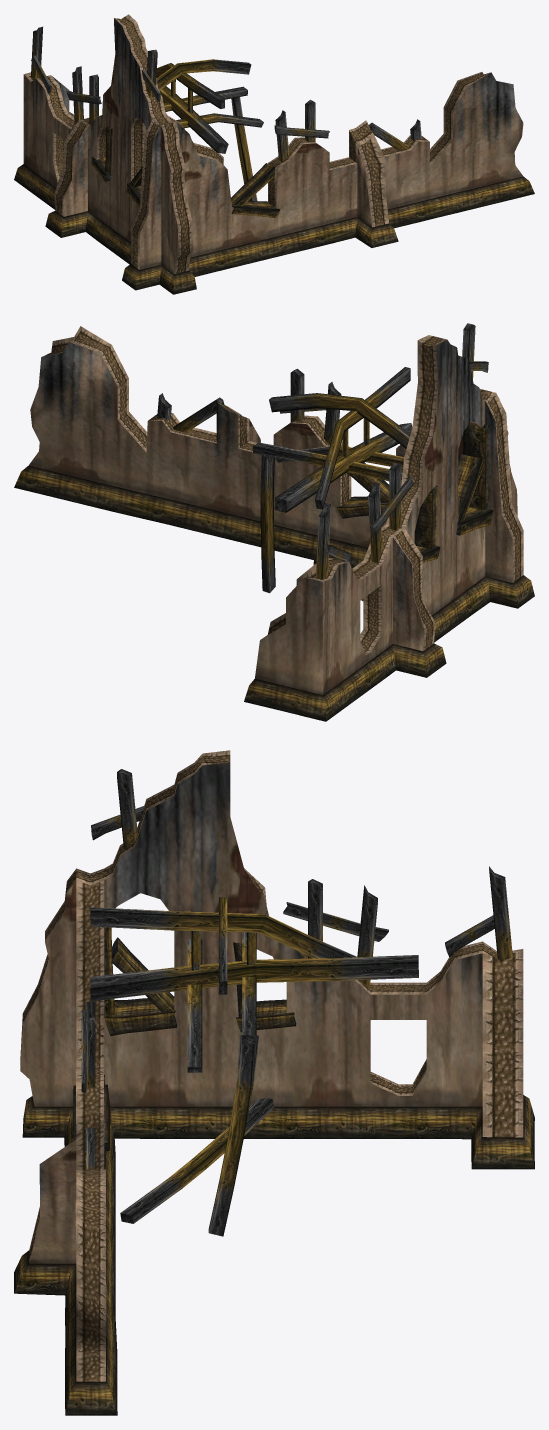
The model's file is CB_BRKN_BUILDING10.fbx.
3 renders of one model, top to bottom at view 1: azimuth 30°, elevation 25°; view 2: azimuth 150°, elevation 25°; view 3: azimuth 270°, elevation 25°, orthographic. The views are drawn at different scales.
Visible parts, largest first — view 1: CB_BRKN_BUILDING10; view 2: CB_BRKN_BUILDING10; view 3: CB_BRKN_BUILDING10.
Part boxes in pixels (left/top/right/bottom): CB_BRKN_BUILDING10: left=14, top=14, right=534, bottom=294; CB_BRKN_BUILDING10: left=14, top=323, right=534, bottom=721; CB_BRKN_BUILDING10: left=14, top=750, right=534, bottom=1415.
Size of the model in its own units: 330951 by 182887 by 229579.
5 materials, 5 textured.
